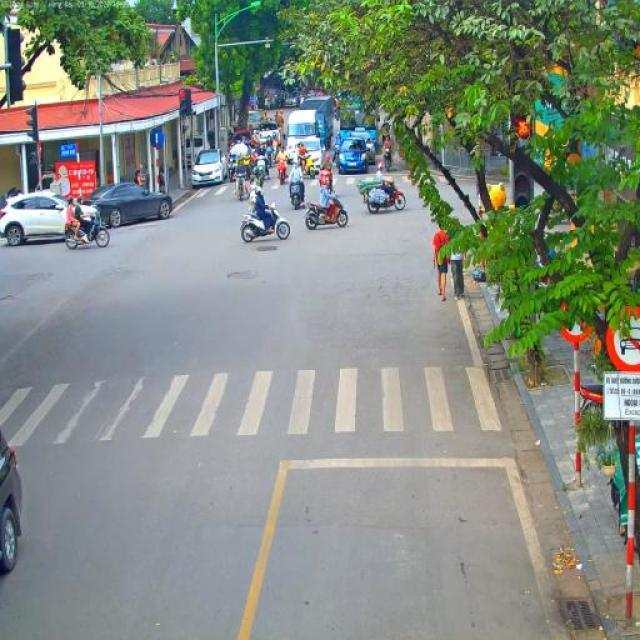car: (0, 191, 101, 247), (88, 182, 174, 228), (0, 427, 24, 575), (191, 148, 231, 186), (336, 134, 370, 174), (353, 126, 378, 159), (256, 120, 280, 152), (283, 94, 298, 107)
motorcycle: (240, 204, 291, 242), (64, 213, 111, 251), (358, 177, 407, 213), (305, 196, 349, 230), (248, 181, 263, 214), (290, 180, 304, 210), (318, 168, 333, 196), (234, 172, 248, 202), (302, 156, 316, 179), (276, 160, 289, 184), (258, 158, 271, 182), (381, 148, 393, 173), (330, 143, 340, 169), (264, 146, 274, 169), (226, 157, 235, 179), (272, 140, 279, 160), (159, 174, 166, 193), (252, 154, 259, 167)
truck: (286, 108, 326, 171), (300, 96, 340, 148), (338, 104, 367, 132), (248, 110, 264, 134)
